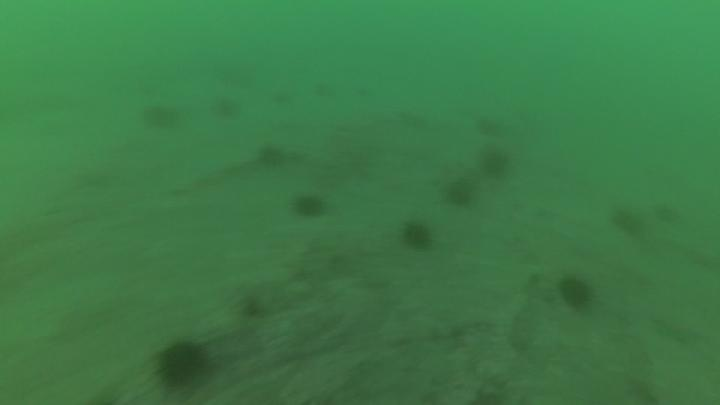echinus: (156, 346, 208, 387), (563, 278, 591, 307), (293, 194, 324, 218), (482, 148, 506, 172), (448, 182, 473, 205), (405, 227, 430, 248), (258, 147, 284, 164)
